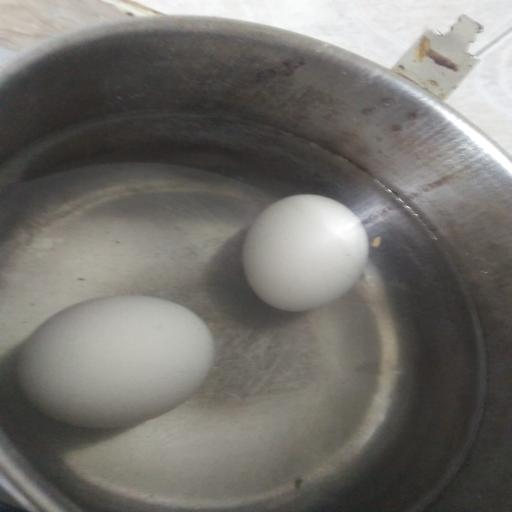telur: (17, 296, 215, 428), (242, 194, 368, 312)
